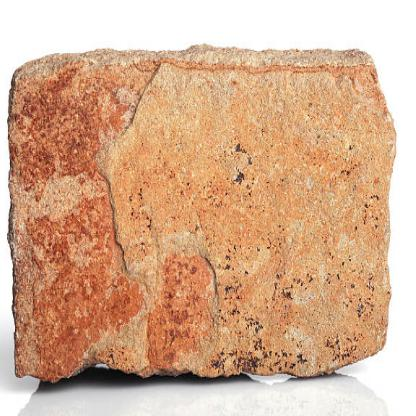Metamorphic_Marble: (1, 18, 398, 388)
